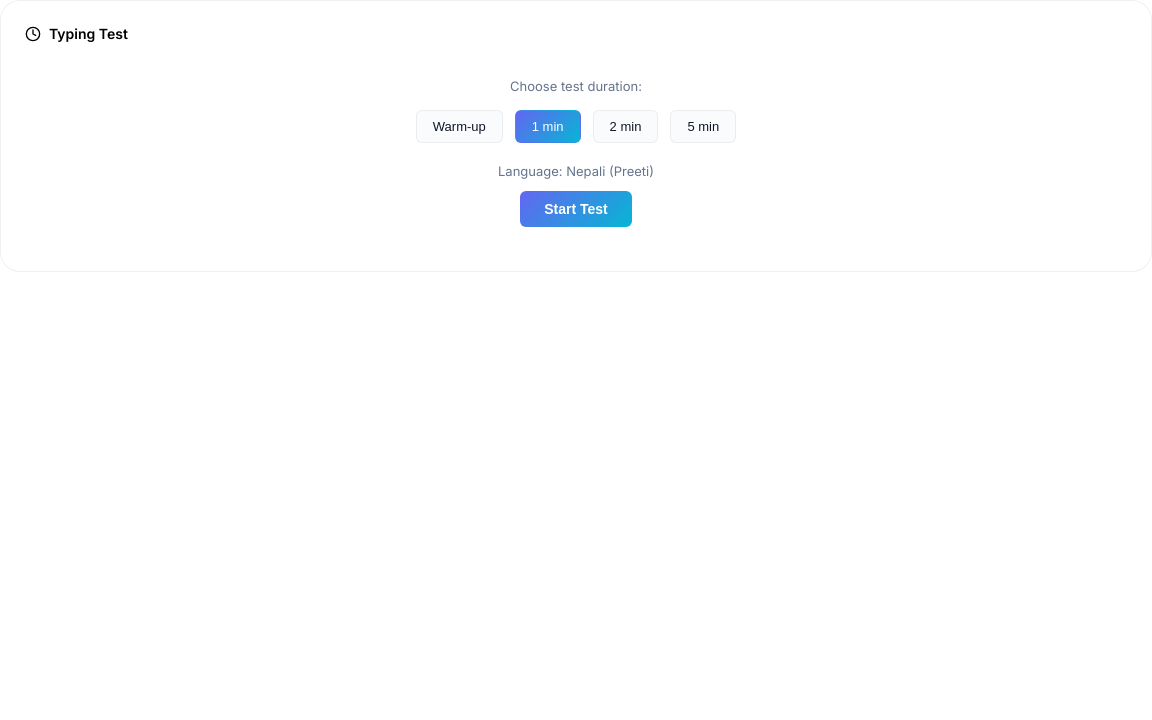
TypingTest Integration › keyboard type support › works with traditional keyboard
Click the button "Start Test": (576, 209) [520,191,632,227]
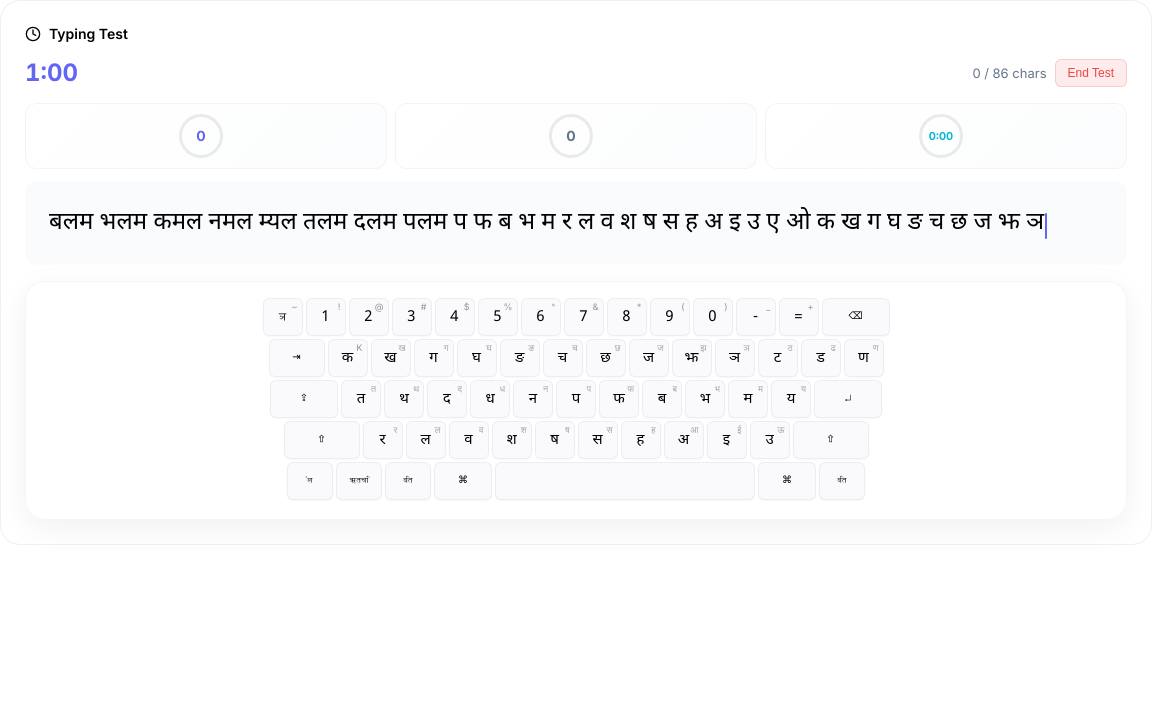
Result: the 1st text "क" is shown at [153,207,172,239]
